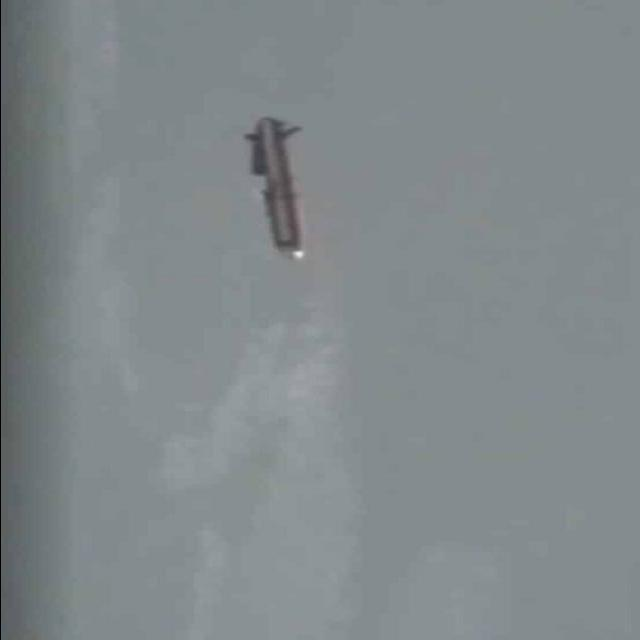Missile: (241, 112, 311, 263)
